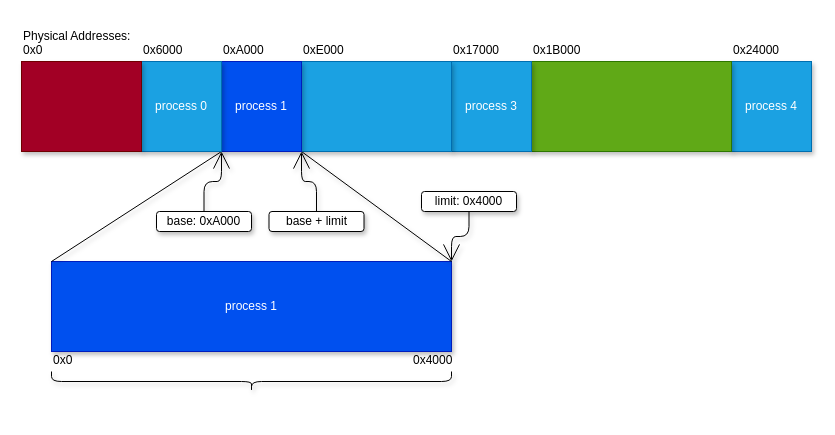
The diagram is 835 pixels wide and 435 high, and some of its shapes have lost their labels. The centre of each missing label's shape, as x and y in pixels:
Kernel: [82,107]
process 2: [377,107]
process address space (logical addresses): [252,382]
unused (hole): [632,107]
